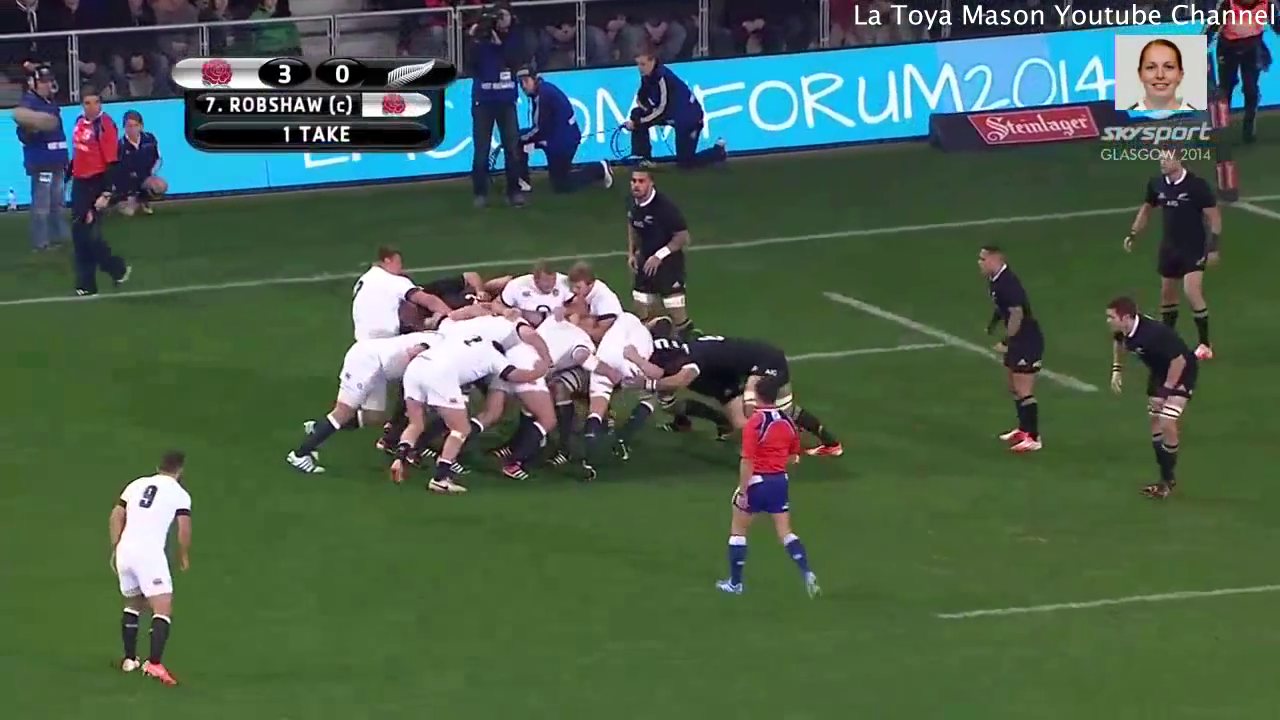player: (712, 376, 849, 613), (641, 318, 864, 462), (1093, 289, 1209, 517), (101, 439, 201, 692), (1116, 145, 1225, 376), (467, 297, 605, 479), (368, 331, 506, 497), (961, 239, 1058, 458), (614, 159, 720, 356), (269, 329, 411, 471), (341, 220, 420, 344), (471, 260, 571, 320), (559, 255, 617, 319)
